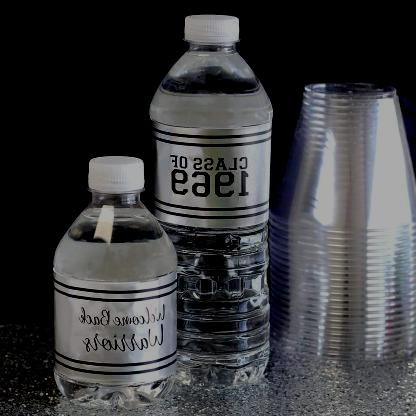bottle: (140, 9, 277, 396), (44, 145, 188, 413)
